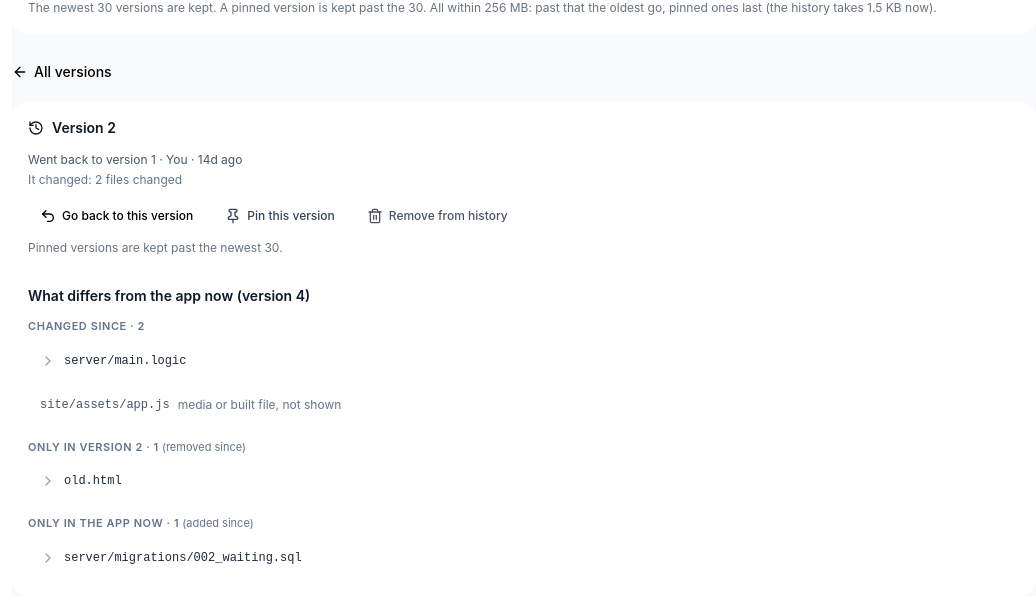
Scenario: one version › shows a text file’s two versions side by side, the lines that differ marked on each side
The image size is (1036, 596).
(page scrolled)
Click the link "server/main.logic": [113, 360] box [40,352,186,368]
(page scrolled)
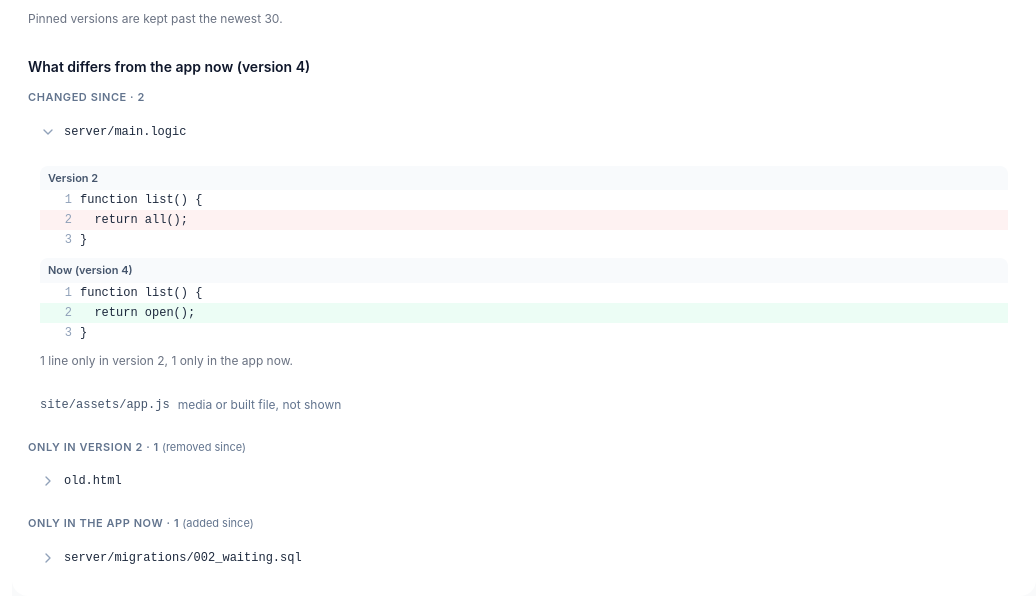
Now the element showing "Version 2 1 function list() { 2 return all(); 3 }" is shown, box [40,166,1008,250]
Now the element showing "Now (version 4) 1 function list() { 2 return open(); 3 }" is shown, box [40,258,1008,342]
Now the element with test id "softn-history-file" shows "1 line only in version 2, 1 only in the app now.", box [28,154,1020,382]
